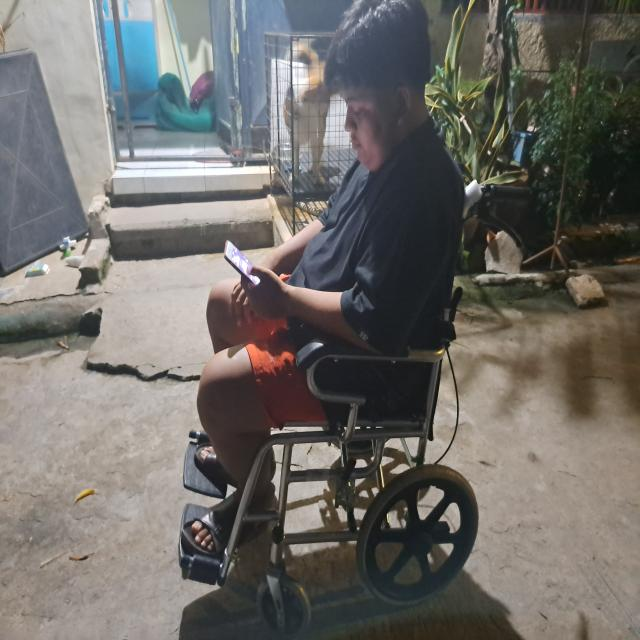wheelchairs: (154, 161, 558, 636)
